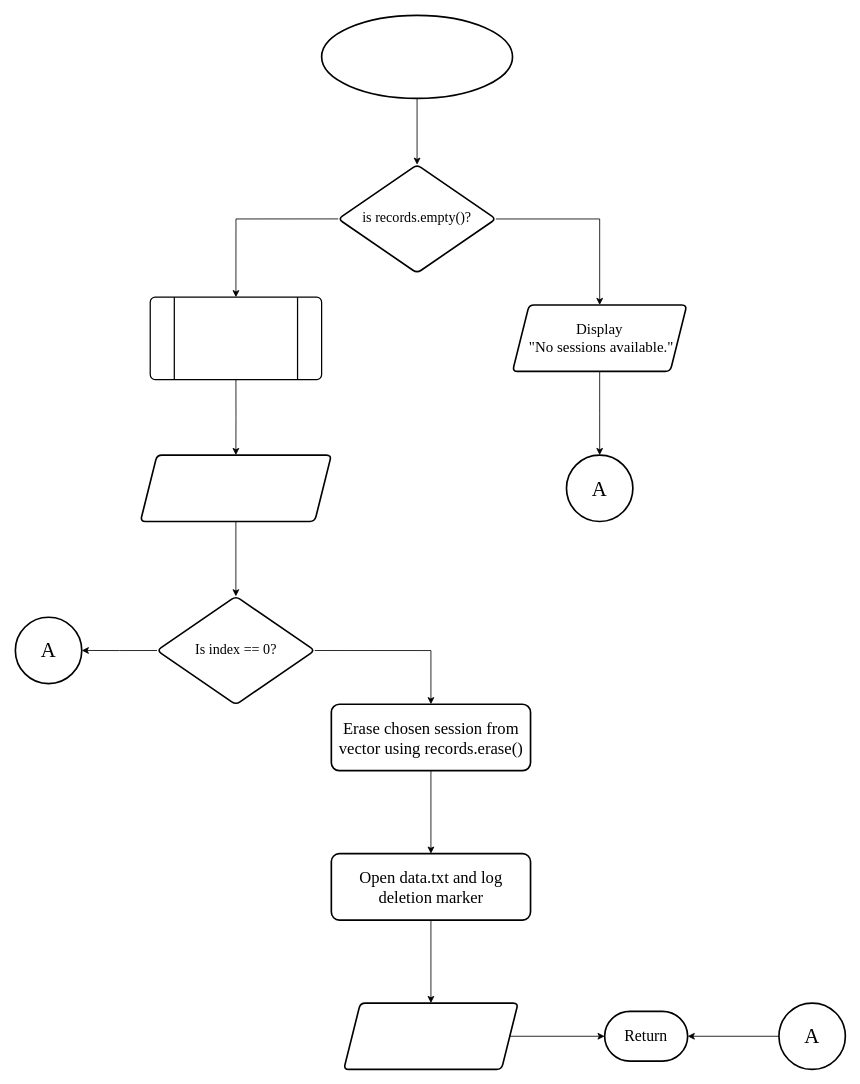
Some shapes in this 860 by 1084 pixel diagram are drawn without their labels. The shapes that lost their labels are listed below. From the top down, each one's centre as x and y in pixels, then its label:
the point at 416,56: deleteSession(records)
the point at 235,338: viewHistory(records)
the point at 235,488: Get session index to delete via inputValidation()
the point at 431,1036: Display "Session is deleted successfully."
